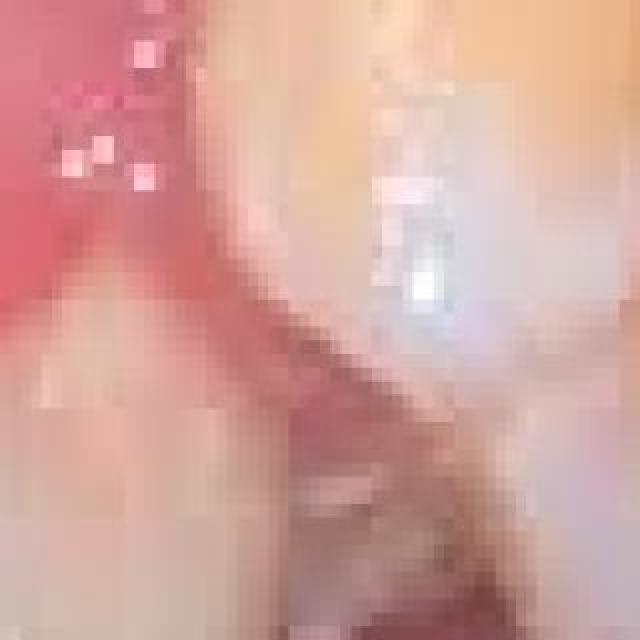maligned: (162, 0, 640, 414)
